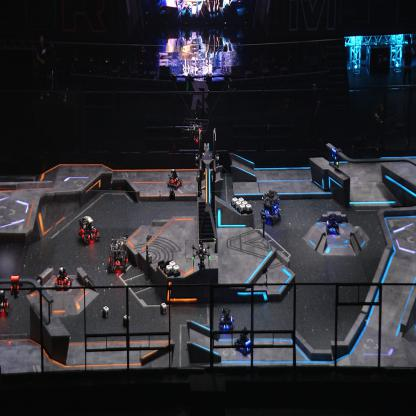car: (260, 190, 282, 225), (108, 237, 128, 274), (78, 214, 100, 245), (234, 327, 253, 357), (54, 265, 74, 291), (218, 308, 234, 335), (324, 212, 340, 235), (166, 168, 182, 191), (0, 289, 9, 316)
